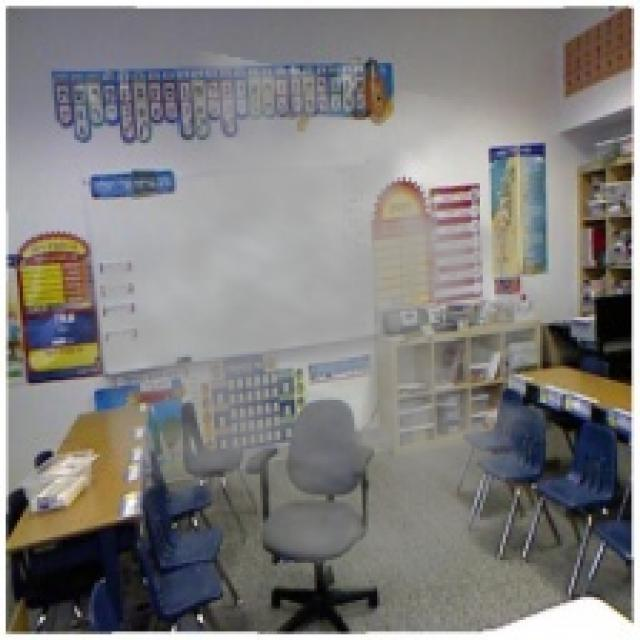smoke: (49, 49, 606, 597)
